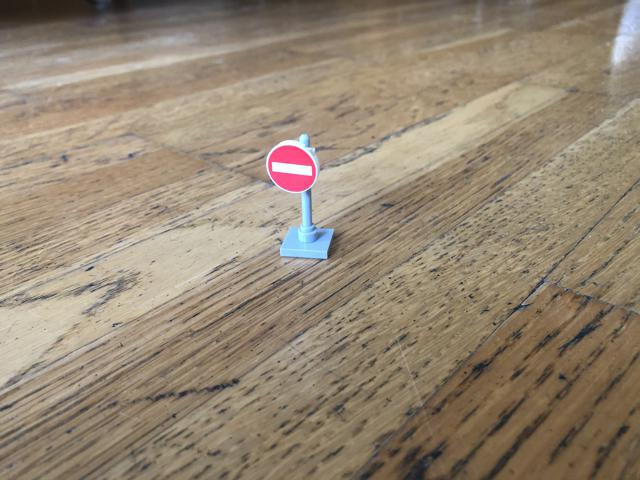verbot der einfahrt: (268, 140, 318, 195)
